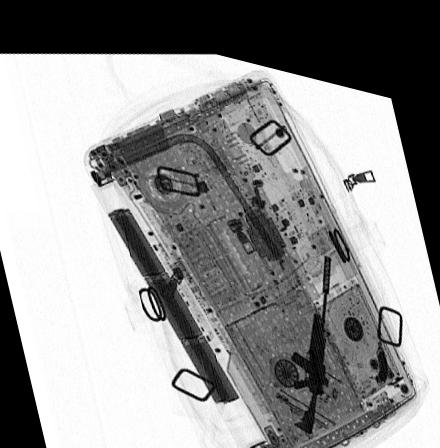Gun: (289, 235, 333, 417)
